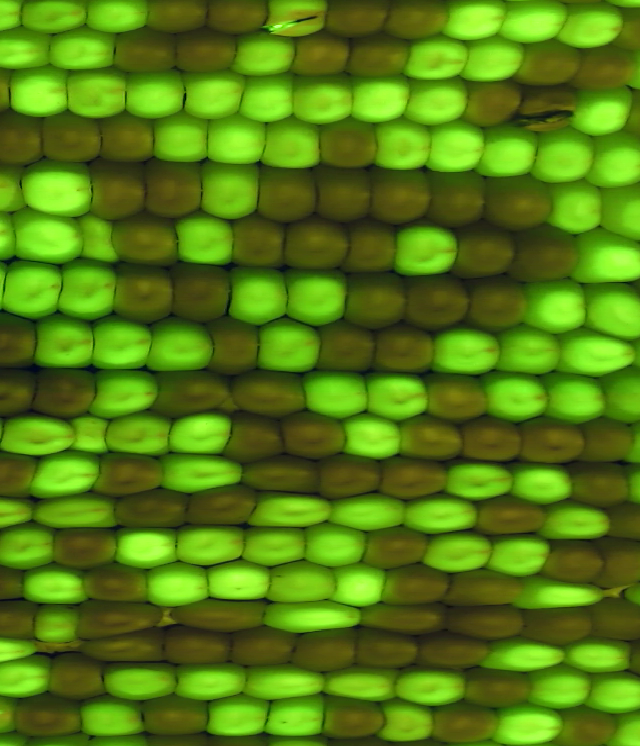fluorescent: (10, 206, 87, 269), (551, 326, 640, 379), (322, 660, 403, 713), (84, 312, 157, 370), (282, 265, 350, 327), (431, 321, 503, 379), (159, 446, 247, 493), (263, 598, 366, 638), (145, 318, 218, 374), (22, 162, 97, 216), (27, 448, 104, 500), (541, 367, 610, 425), (393, 220, 461, 278), (571, 228, 640, 285), (241, 660, 328, 705), (483, 370, 550, 428), (31, 312, 99, 369), (244, 488, 336, 530), (532, 128, 601, 184), (179, 68, 250, 122), (88, 367, 160, 419), (168, 213, 237, 267), (254, 321, 324, 374), (389, 667, 471, 712), (3, 260, 65, 319), (420, 528, 496, 576), (227, 266, 291, 323), (33, 492, 124, 532), (363, 369, 433, 421), (523, 278, 590, 332), (63, 68, 130, 122), (8, 63, 73, 118), (493, 326, 564, 376), (288, 72, 356, 124), (327, 491, 411, 533), (103, 411, 175, 460), (104, 660, 186, 703), (301, 369, 372, 418), (0, 412, 79, 456), (198, 162, 260, 218), (170, 521, 247, 566), (345, 71, 410, 124), (42, 27, 122, 70), (111, 523, 184, 570), (60, 261, 118, 320), (122, 68, 189, 119), (263, 558, 337, 604), (514, 574, 608, 610), (462, 33, 527, 85), (584, 281, 640, 341), (176, 660, 250, 705), (239, 69, 298, 125), (374, 118, 432, 174), (498, 1, 570, 46), (203, 558, 278, 601), (405, 75, 472, 123), (406, 493, 479, 537), (205, 115, 269, 165), (146, 558, 214, 605), (338, 413, 403, 461), (261, 118, 322, 169), (542, 499, 616, 541), (167, 411, 234, 457), (430, 119, 485, 175), (480, 122, 535, 178), (570, 87, 634, 135), (481, 637, 566, 673), (490, 706, 569, 744), (205, 694, 274, 737), (144, 118, 209, 163), (232, 32, 300, 75), (504, 465, 577, 505), (21, 562, 90, 604), (404, 37, 471, 80), (330, 561, 390, 609), (437, 1, 507, 42), (547, 181, 602, 233), (304, 523, 370, 566), (522, 666, 591, 707), (445, 463, 517, 502), (564, 2, 622, 50), (560, 634, 635, 671), (590, 132, 640, 187), (487, 533, 550, 576), (241, 524, 308, 564), (0, 523, 56, 570), (76, 698, 149, 734), (17, 1, 92, 35), (371, 701, 436, 740), (598, 366, 640, 426), (586, 671, 640, 717), (595, 184, 640, 239), (260, 699, 328, 735), (0, 656, 55, 700), (262, 1, 331, 36), (0, 28, 57, 70), (33, 602, 84, 648), (79, 214, 122, 266), (83, 1, 149, 33), (70, 413, 112, 456), (0, 492, 43, 532), (0, 630, 41, 666), (605, 711, 640, 746), (0, 170, 30, 210), (0, 1, 30, 36), (89, 729, 147, 746), (267, 732, 334, 746), (608, 1, 640, 7)
nonfluorescent: (307, 159, 376, 223), (140, 155, 207, 219), (513, 222, 579, 286), (167, 260, 230, 327), (111, 259, 174, 326), (278, 213, 353, 269), (481, 172, 556, 228), (365, 162, 431, 224), (403, 270, 471, 330), (70, 597, 169, 638), (255, 160, 320, 222), (103, 213, 182, 264), (425, 166, 489, 228), (87, 156, 149, 219), (153, 366, 231, 416), (93, 109, 163, 164), (396, 412, 467, 466), (512, 416, 588, 466), (345, 269, 408, 329), (454, 220, 517, 280), (221, 410, 292, 463), (419, 372, 490, 423), (316, 318, 379, 375), (229, 369, 307, 415), (279, 411, 350, 461), (35, 366, 99, 420), (341, 217, 400, 275), (464, 277, 528, 330), (515, 82, 579, 135), (230, 624, 300, 672), (227, 213, 288, 268), (575, 413, 640, 464), (113, 27, 185, 73), (317, 120, 383, 170), (376, 323, 437, 377), (54, 525, 124, 572), (41, 110, 103, 163), (204, 316, 263, 371), (380, 452, 450, 498), (112, 485, 190, 526), (91, 451, 162, 496), (312, 453, 383, 497), (457, 417, 526, 462), (353, 624, 422, 669), (244, 454, 316, 497), (517, 39, 584, 85), (189, 484, 256, 530), (359, 598, 447, 633), (140, 695, 215, 736), (289, 32, 356, 77), (444, 604, 525, 641), (445, 570, 528, 606), (518, 609, 598, 646), (415, 630, 489, 670), (14, 696, 89, 735), (49, 652, 107, 702), (429, 707, 507, 744), (163, 624, 233, 665), (318, 696, 389, 736), (177, 27, 240, 72), (569, 462, 632, 507), (546, 539, 605, 587), (577, 43, 637, 90), (175, 599, 269, 629), (381, 1, 455, 39), (465, 80, 526, 126), (82, 563, 152, 603), (0, 107, 44, 170), (363, 528, 432, 568), (346, 35, 413, 76), (286, 630, 360, 667), (385, 566, 453, 606), (476, 494, 544, 533), (0, 311, 43, 370), (86, 633, 172, 662), (556, 708, 621, 746), (316, 1, 395, 32), (463, 670, 532, 705), (584, 597, 640, 640), (598, 536, 640, 588), (204, 1, 274, 32), (0, 364, 38, 416), (143, 1, 213, 28), (0, 595, 42, 639), (0, 447, 38, 495), (608, 502, 640, 538), (147, 728, 205, 746), (207, 731, 268, 746), (329, 735, 393, 746), (398, 739, 443, 746)
